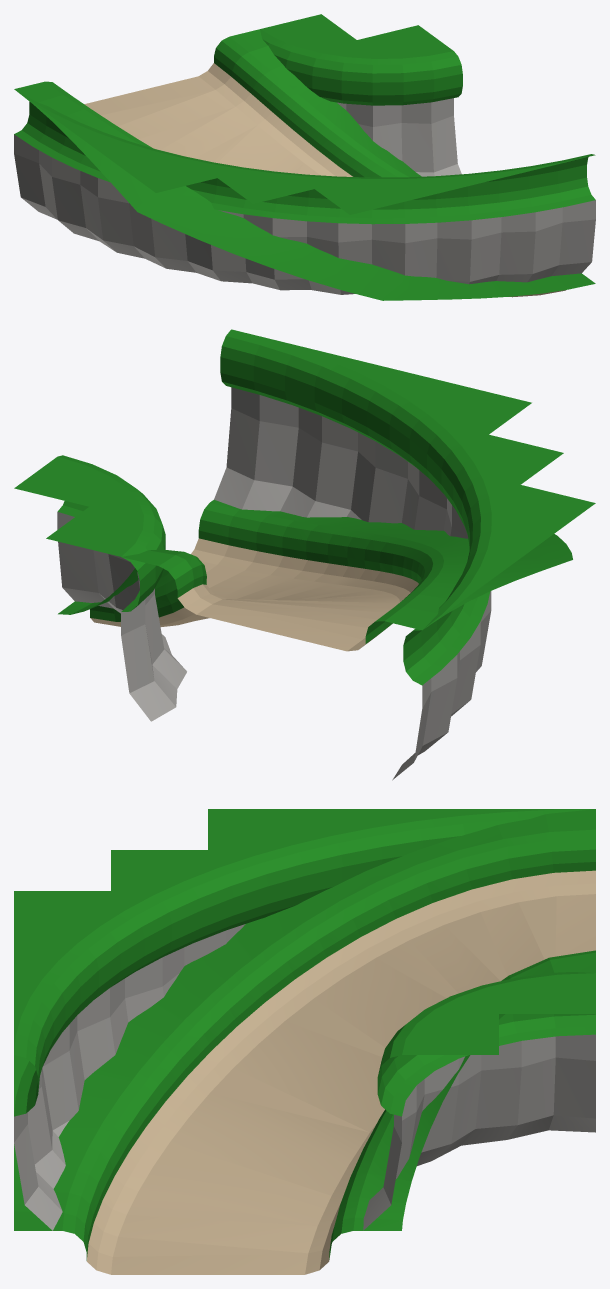
The model's file is Track_Cliff_Curve_Standard_Double_6x6.obj.
The picture shows the model from 3 angles, top to bottom: view 1: azimuth 30°, elevation 25°; view 2: azimuth 150°, elevation 25°; view 3: azimuth 270°, elevation 25°; orthographic projection. The views are drawn at different scales.
Parts seen in each view (by area): view 1: Grass, Rock, Dirt; view 2: Grass, Rock, Dirt; view 3: Grass, Dirt, Rock.
Boxes of the visible parts, x1,y1,x2,y2 form: Grass: (14,14,595,300); Rock: (14,98,595,294); Dirt: (84,63,565,297); Grass: (14,329,595,685); Rock: (57,387,491,780); Dirt: (90,538,418,651); Grass: (14,809,595,1260); Dirt: (86,870,595,1274); Rock: (14,924,595,1230).
Size of the model in its own units: 6 by 2.5 by 6.
